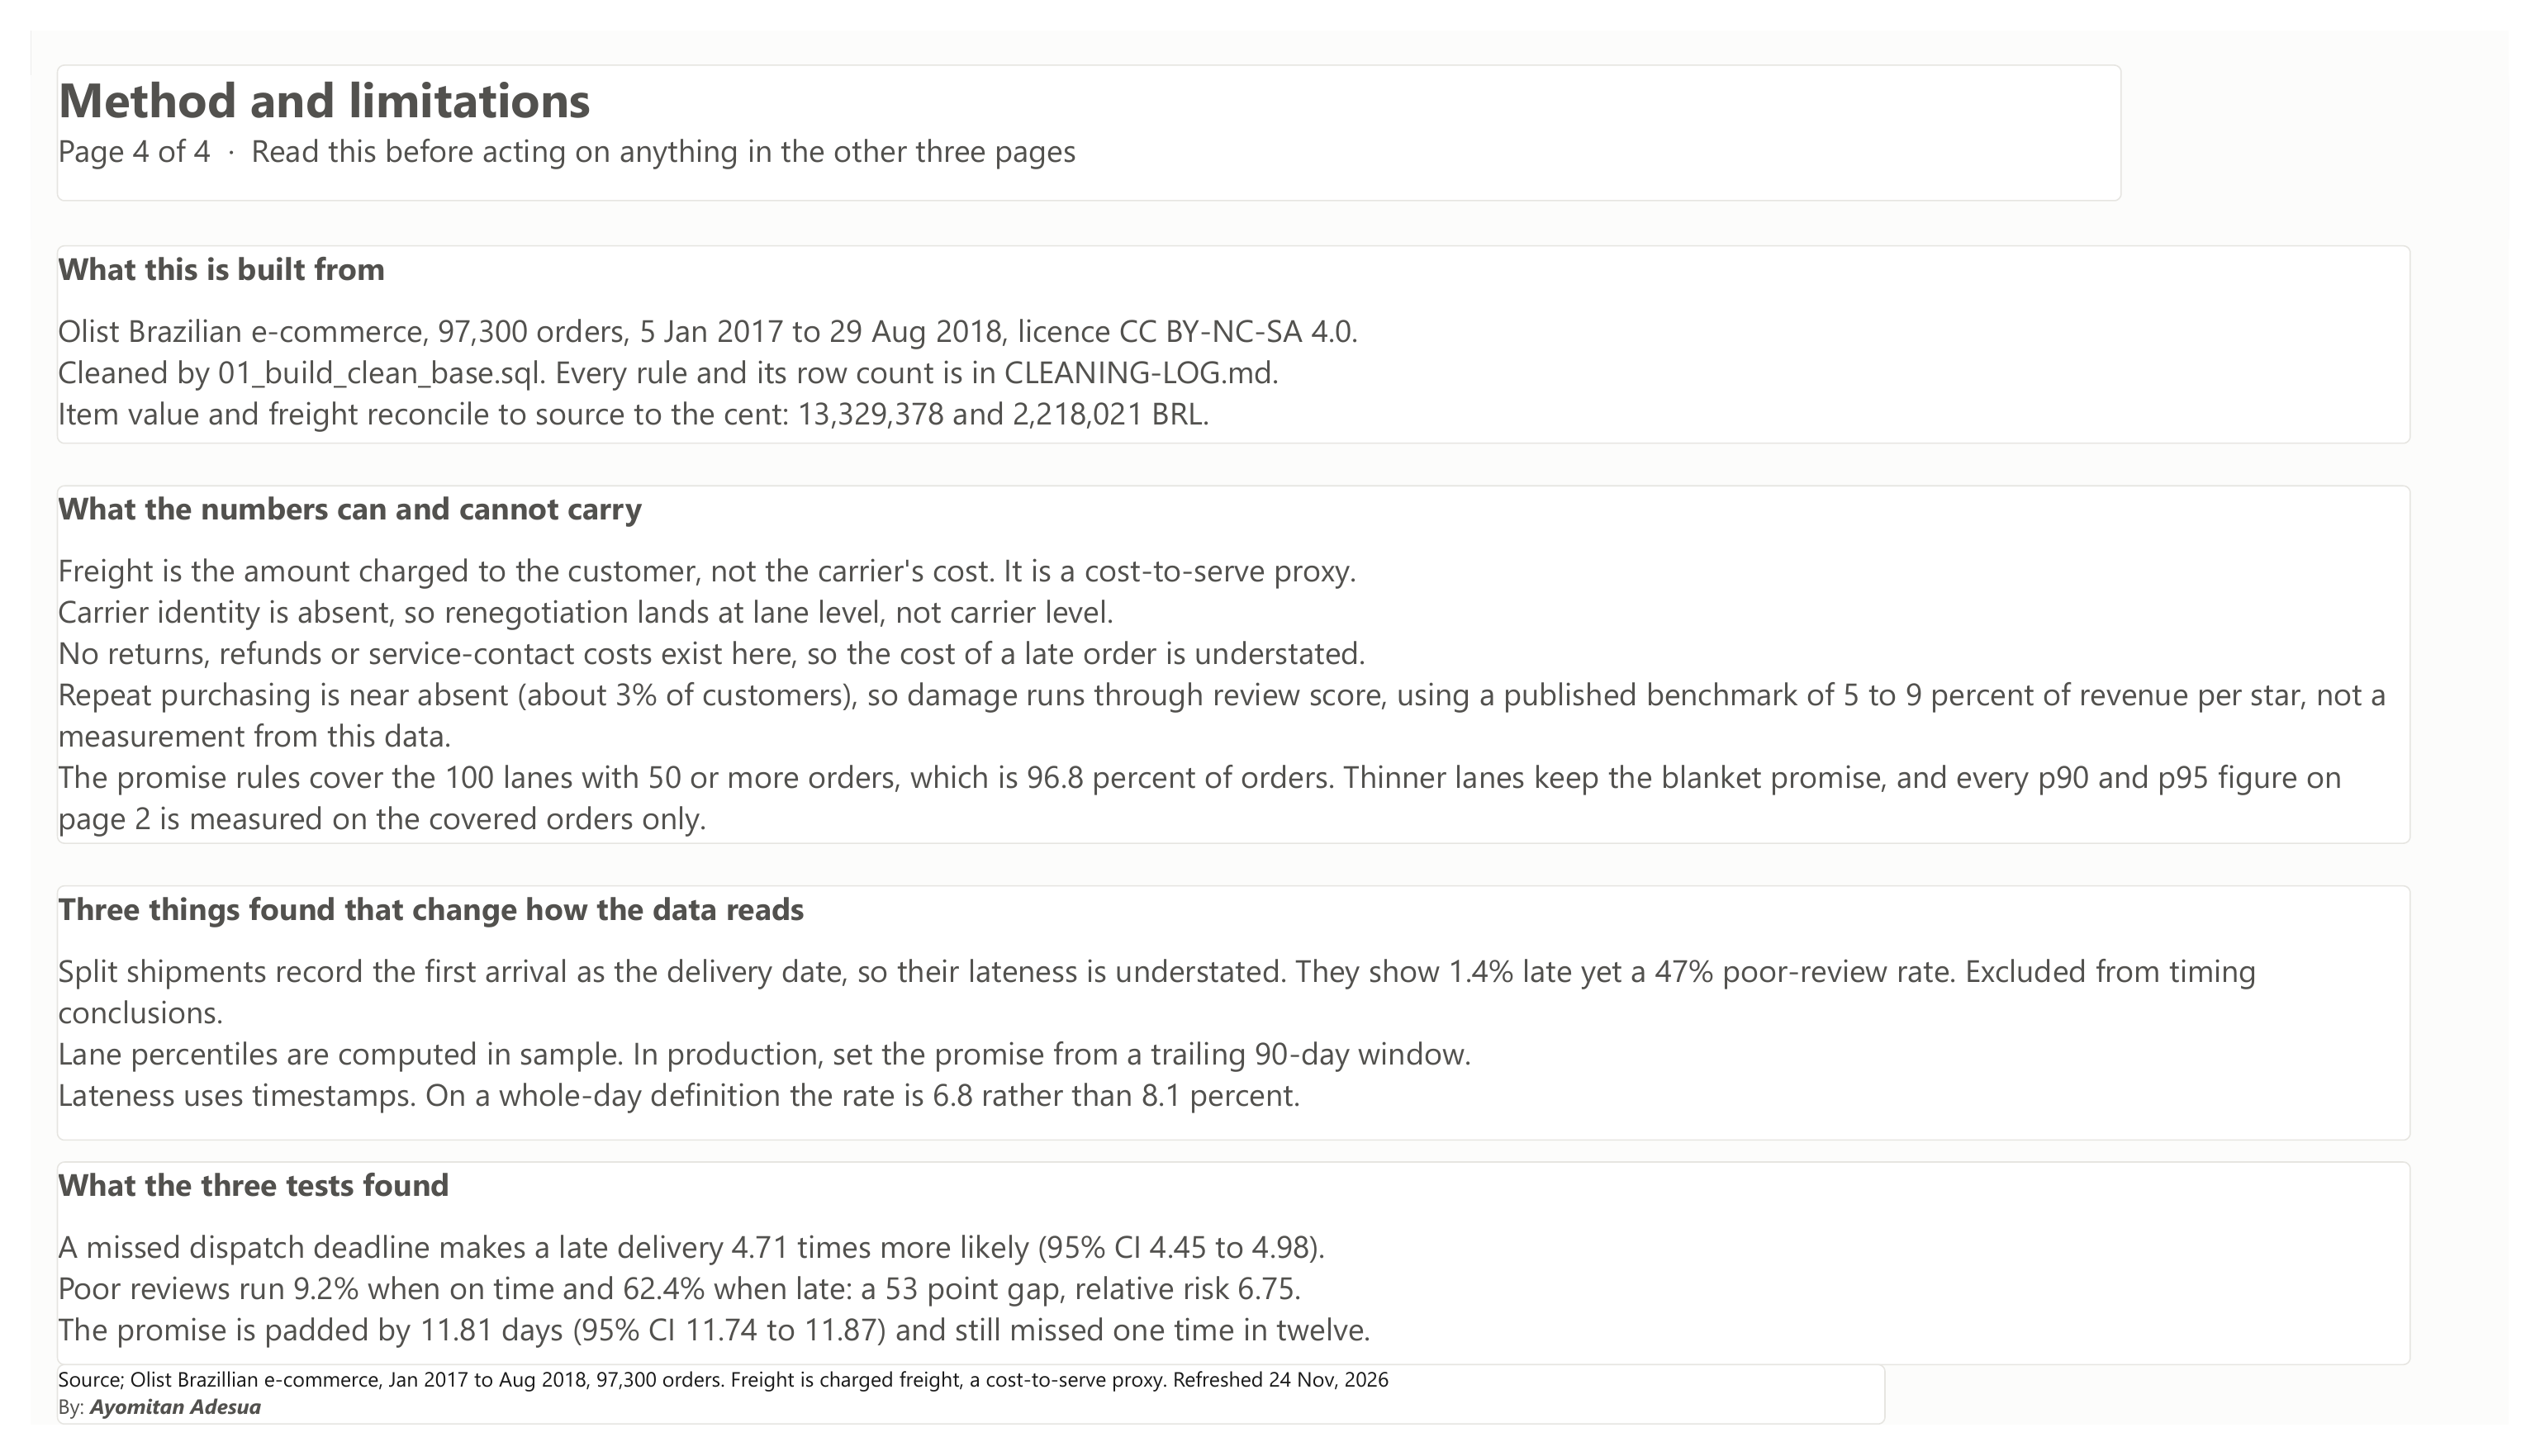

This screenshot's page, from the dashboard's own definition file:
{"tool":"powerbi","page":{"name":"Method and limitations","canvas":[1920,1080],"ordinal":3},"visuals":[{"type":"textbox","box":[20,166,1824,154],"z":0},{"type":"textbox","box":[20,352,1824,278],"z":1000},{"type":"textbox","box":[20,662,1824,198],"z":2000},{"type":"textbox","box":[20,876,1824,158],"z":3000},{"type":"textbox","box":[20,1033.3,1416.7,46.7],"z":4000},{"type":"textbox","box":[20,26,1600,106],"z":5000}]}

Visuals, with their boxes on the page's 1920x1080 design canvas (x1, y1, x2, y2). These are canvas units, not pixel positions in the 2540x1456 screenshot, which may show the page scaled, cropped or inside an application window:
textbox: x1=20 y1=166 x2=1844 y2=320
textbox: x1=20 y1=352 x2=1844 y2=630
textbox: x1=20 y1=662 x2=1844 y2=860
textbox: x1=20 y1=876 x2=1844 y2=1034
textbox: x1=20 y1=1033 x2=1437 y2=1080
textbox: x1=20 y1=26 x2=1620 y2=132
